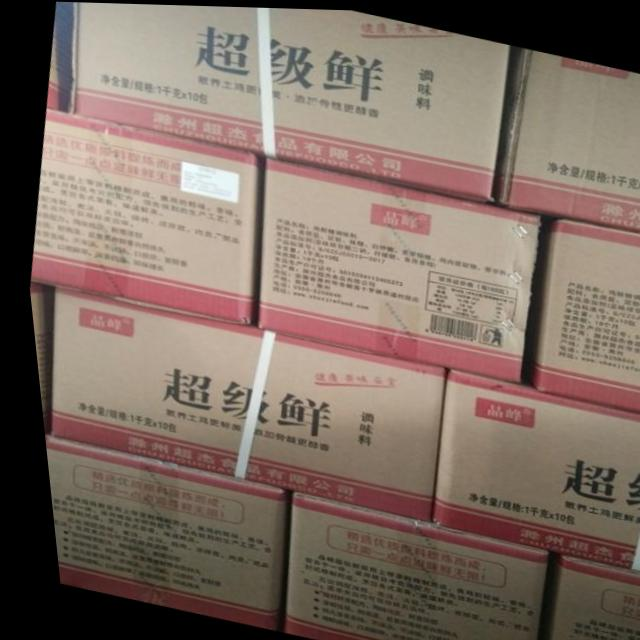box: (41, 289, 437, 519), (65, 2, 511, 201), (248, 155, 537, 380), (25, 107, 259, 326), (36, 435, 274, 631), (421, 365, 640, 572), (270, 494, 535, 640), (484, 42, 640, 229), (514, 213, 640, 411), (532, 553, 640, 640), (24, 284, 48, 436), (44, 1, 75, 111)
